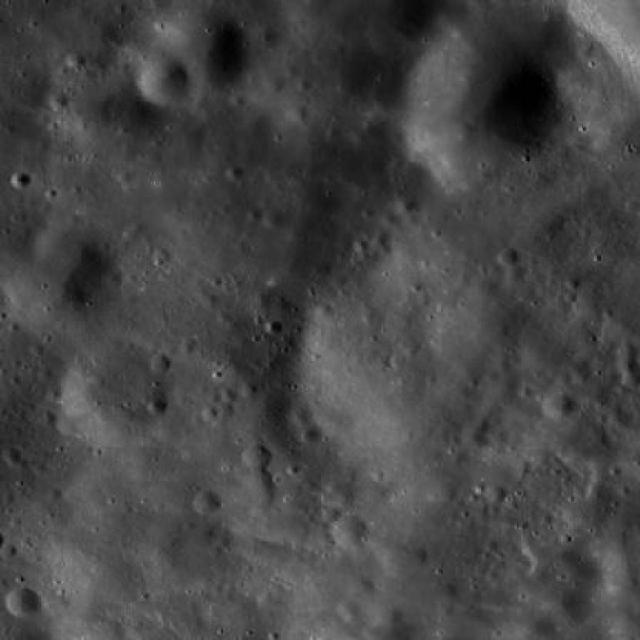crater: (392, 31, 562, 187), (55, 340, 172, 446), (3, 240, 112, 340), (159, 5, 253, 91), (309, 0, 429, 66), (69, 89, 151, 163), (34, 224, 112, 296), (133, 53, 194, 109), (101, 58, 144, 96), (542, 586, 582, 622), (332, 516, 370, 550), (5, 584, 40, 618), (278, 515, 314, 548), (248, 16, 283, 49), (460, 421, 494, 454), (321, 478, 354, 508), (343, 572, 374, 600), (544, 392, 574, 419), (242, 111, 270, 137), (193, 490, 221, 516), (243, 444, 271, 470), (284, 98, 310, 122), (246, 468, 272, 490), (406, 548, 429, 570), (262, 74, 286, 94), (183, 127, 206, 147), (290, 404, 313, 424), (262, 208, 284, 228), (396, 193, 418, 213), (299, 422, 321, 442), (380, 604, 402, 624), (49, 90, 69, 110), (437, 580, 457, 600), (148, 354, 170, 372), (336, 598, 358, 616), (13, 169, 33, 188), (214, 403, 234, 422), (498, 247, 518, 266), (506, 265, 526, 284), (144, 396, 164, 414), (253, 498, 273, 516), (200, 406, 220, 423), (66, 49, 85, 66), (619, 356, 638, 373), (487, 486, 507, 502), (312, 260, 330, 277), (2, 446, 21, 462), (239, 381, 258, 397), (292, 74, 310, 90), (382, 212, 400, 228), (226, 166, 243, 182), (323, 504, 340, 520), (619, 341, 636, 356)
